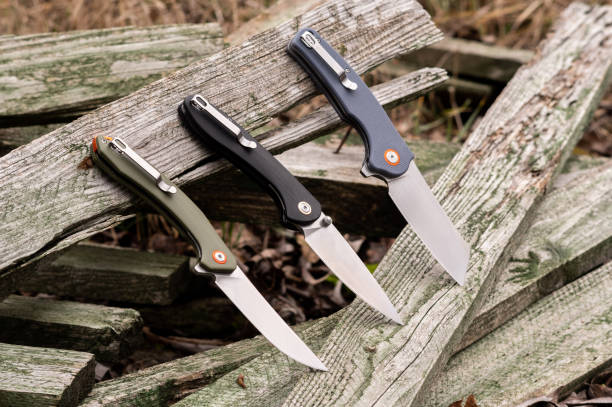knife: (89, 131, 331, 373), (175, 92, 405, 327), (284, 24, 472, 288)
